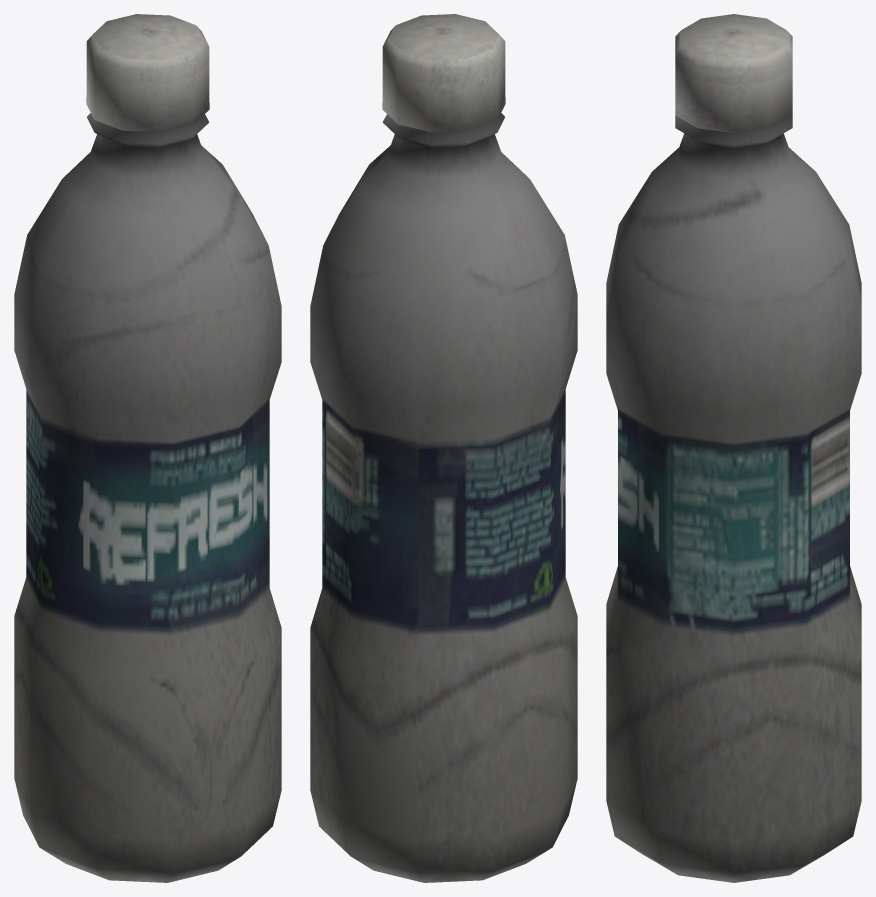
File: Common_Props_WaterContainer_Small_Dirty_3P_LOD0.glb
3 views of the same model, side by side, from view 1: azimuth 30°, elevation 25°; view 2: azimuth 150°, elevation 25°; view 3: azimuth 270°, elevation 25° (orthographic).
Visible parts, largest first — view 1: Hoodie; view 2: Hoodie; view 3: Hoodie.
Boxes of the visible parts, bbox=[...] form: Hoodie: bbox=[14, 14, 281, 882]; Hoodie: bbox=[310, 14, 577, 882]; Hoodie: bbox=[606, 14, 861, 882].
Size of the model in its own units: 0.0824 by 0.2748 by 0.0784.
1 material, 1 textured.
